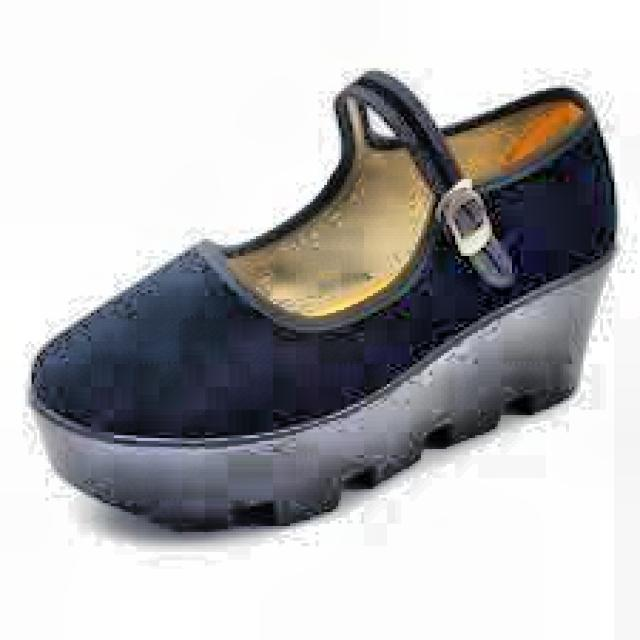shoes: (34, 55, 616, 528)
